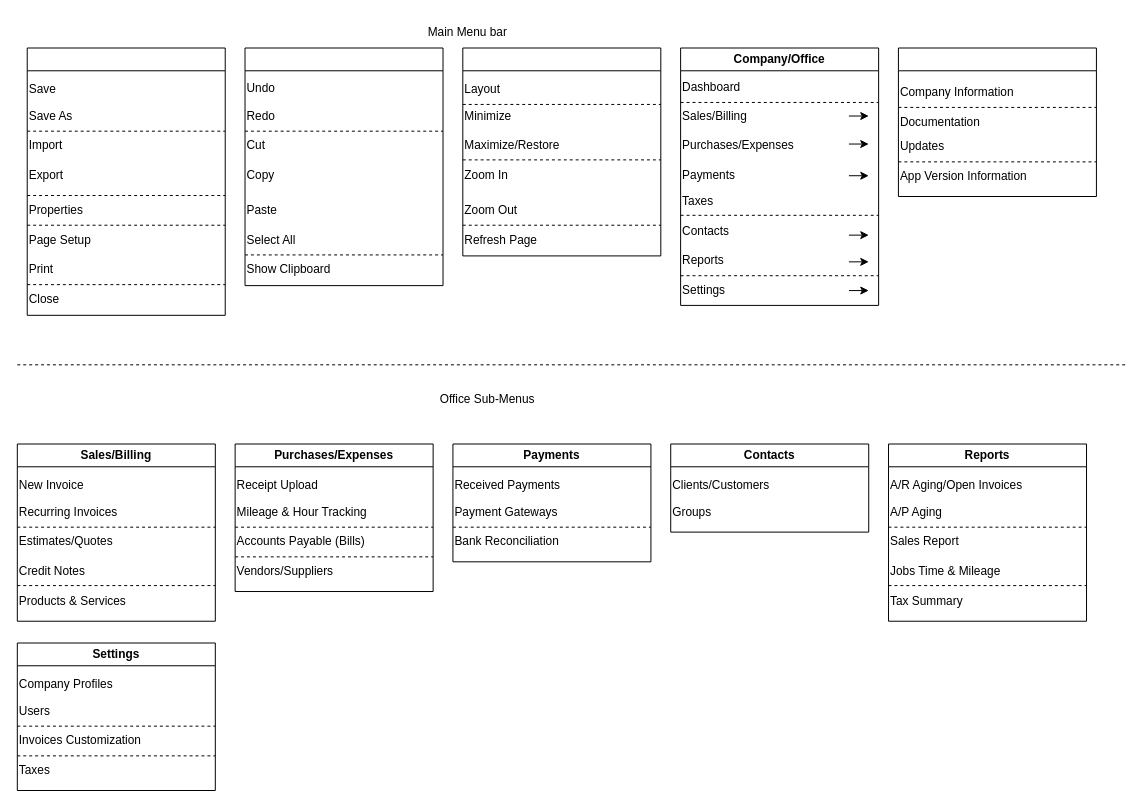
The diagram is 1144 pixels wide and 809 high, and some of its shapes have lost their labels. The box of each missing label's shape, as (x1, y1, x2, y2) in pixels:
Edit: (244, 47, 443, 286)
File: (26, 47, 225, 315)
Help: (897, 47, 1096, 197)
View: (462, 47, 661, 256)
